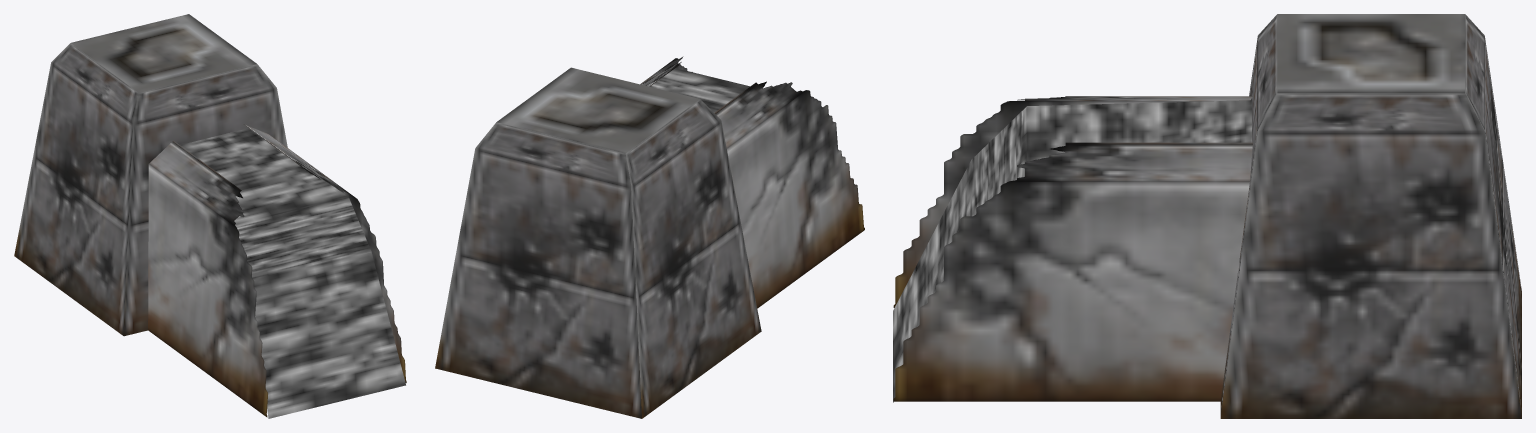
Rendered from s_lightwall_dam.glb.
3 views of the same model, side by side, from view 1: azimuth 30°, elevation 25°; view 2: azimuth 150°, elevation 25°; view 3: azimuth 270°, elevation 25° (orthographic). The views are drawn at different scales.
Parts seen in each view (by area): view 1: S_LightWallDAM; view 2: S_LightWallDAM; view 3: S_LightWallDAM.
Boxes of the visible parts, left/top/right/bottom form: S_LightWallDAM: left=14, top=14, right=406, bottom=418; S_LightWallDAM: left=435, top=56, right=864, bottom=418; S_LightWallDAM: left=893, top=14, right=1521, bottom=418.
Size of the model in its own units: 4.03 by 4.49 by 8.42.
1 material, 1 textured.
